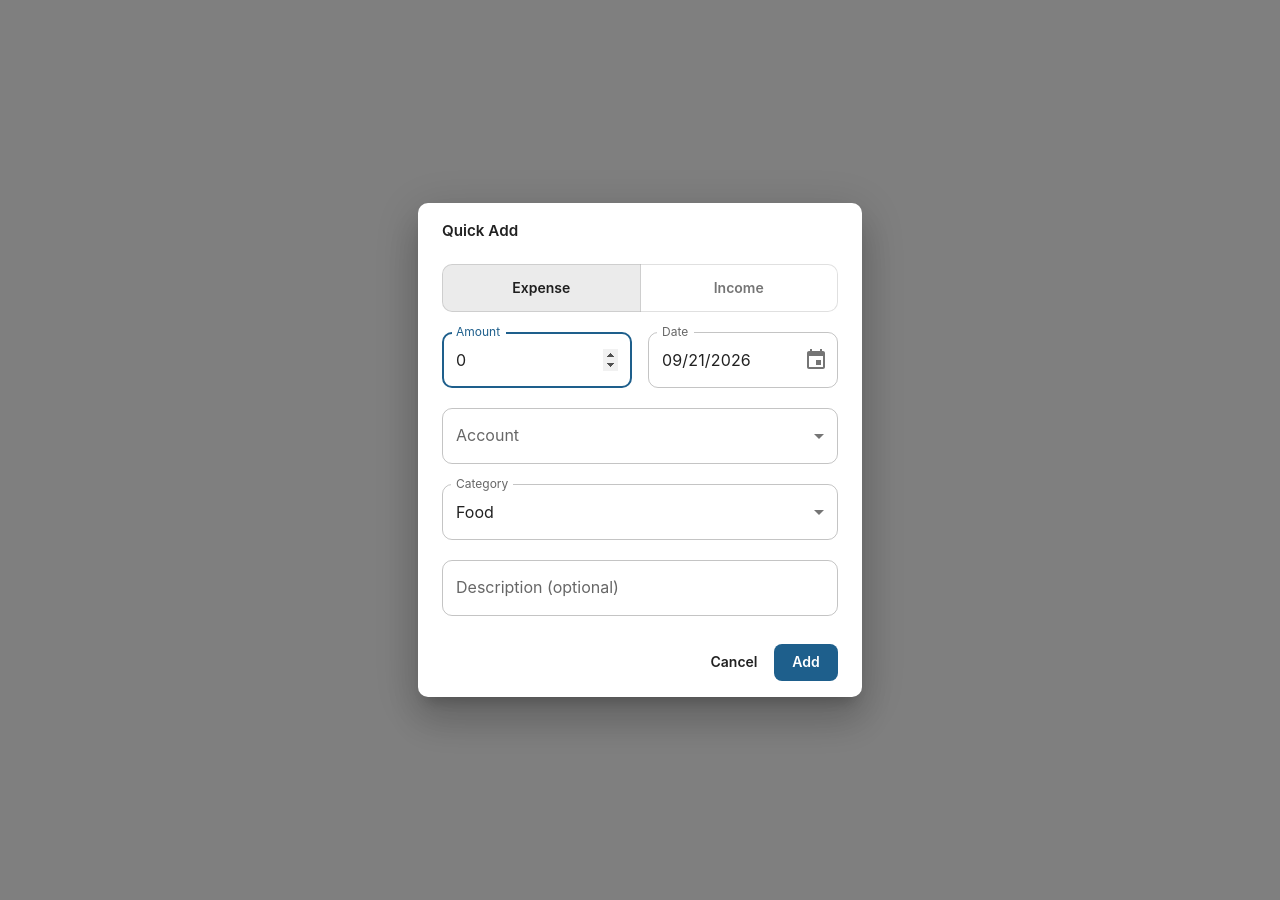
Scenario: QuickAddTransactionDialog › resets the category back to the expense default when switching back from Income
Click the button "Income": (739, 288) [640,264,838,312]
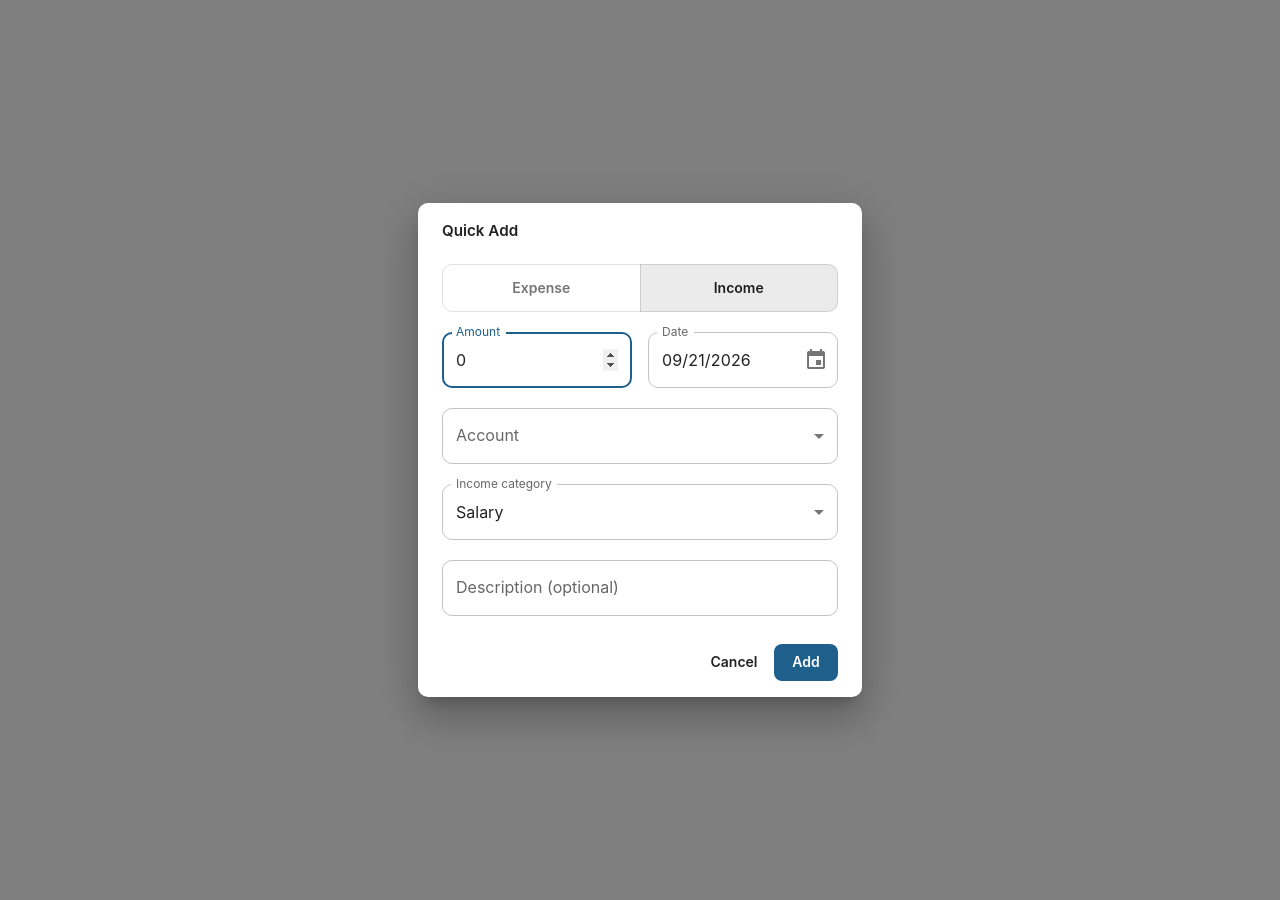
Expected: the dropdown named "Income category" reads "Salary", [456,502,503,522]
Click the button "Expense": (541, 288) [442,264,640,312]
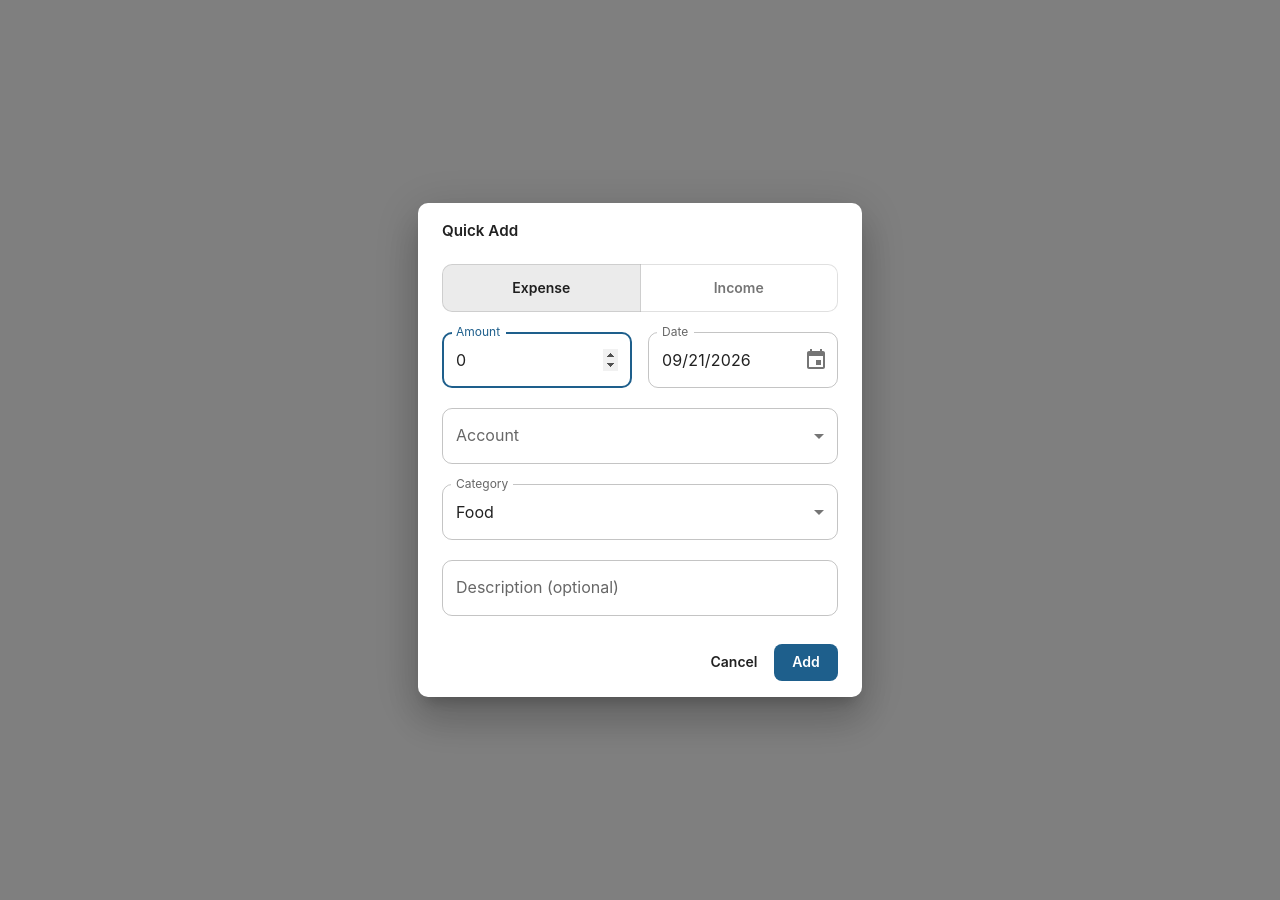
Expected: the dropdown named "Category" reads "Food", [456,502,494,522]
